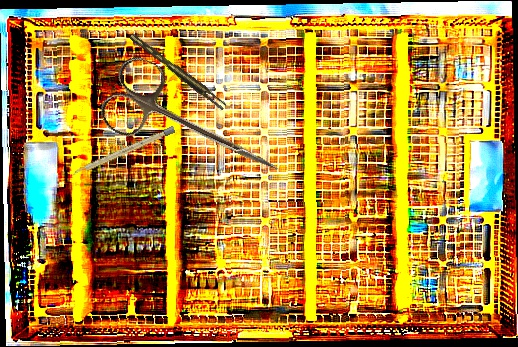Iris Scissors: (94, 51, 297, 201)
Scalpel Handle: (71, 125, 176, 178)
Tissue Forceps: (128, 28, 228, 114)
